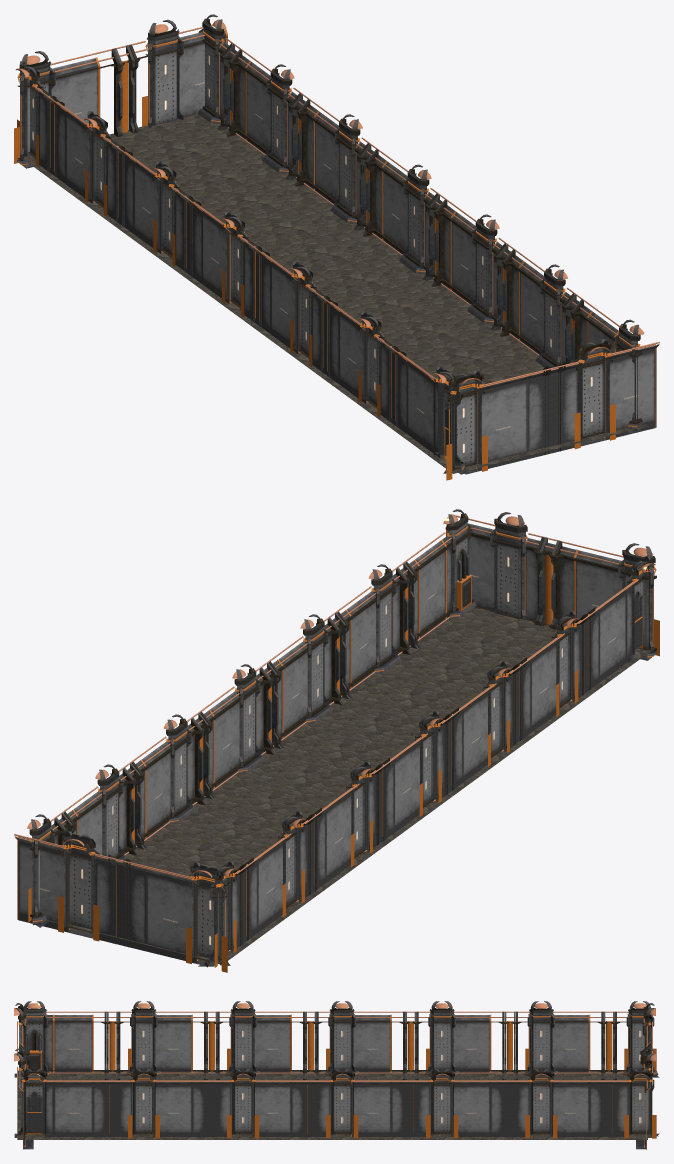
Rendered from futuristicFixed.glb.
The picture shows the model from 3 angles, top to bottom: view 1: azimuth 30°, elevation 25°; view 2: azimuth 150°, elevation 25°; view 3: azimuth 270°, elevation 25°; orthographic projection. The views are drawn at different scales.
Visible parts, largest first — view 1: Object_14.004; view 2: Object_14.004; view 3: Object_14.004.
Part boxes in pixels (bbox=[...]): Object_14.004: bbox=[14, 14, 659, 480]; Object_14.004: bbox=[14, 509, 659, 972]; Object_14.004: bbox=[14, 1001, 659, 1149].
Size of the model in its own units: 9.11 by 4.3 by 33.04.
5 materials, 5 textured.
